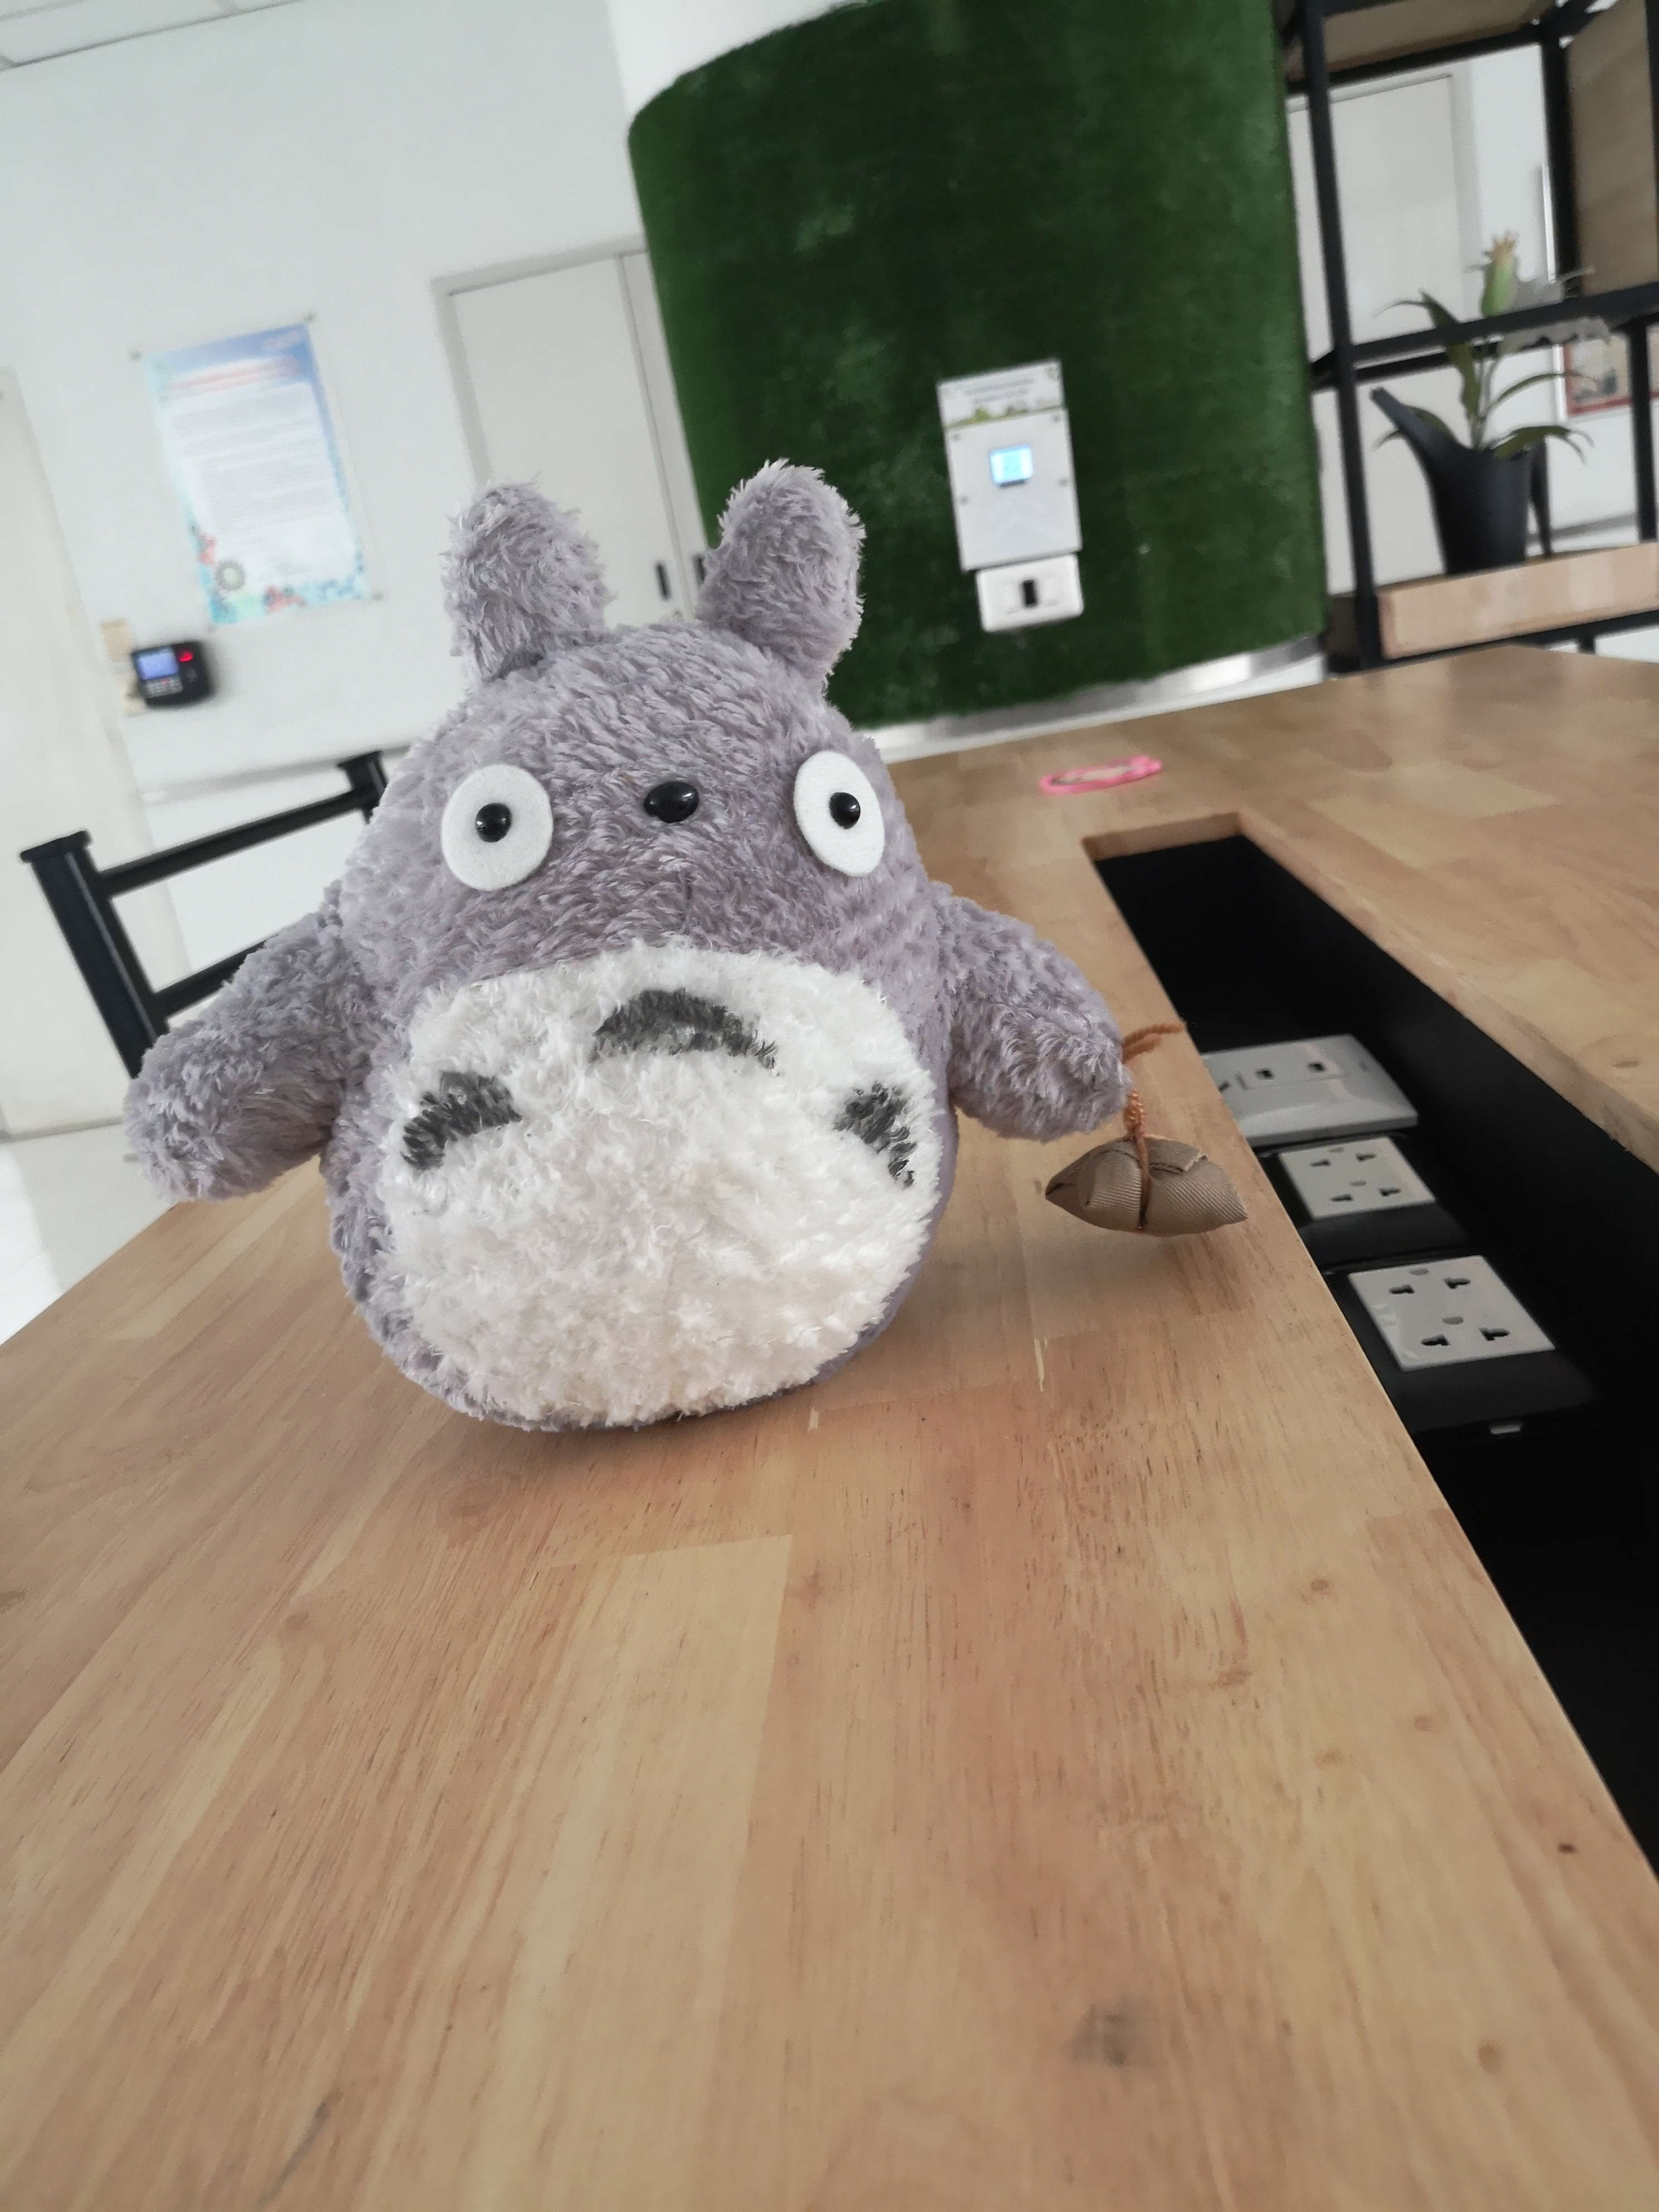totoro: (96, 455, 1263, 1446)
